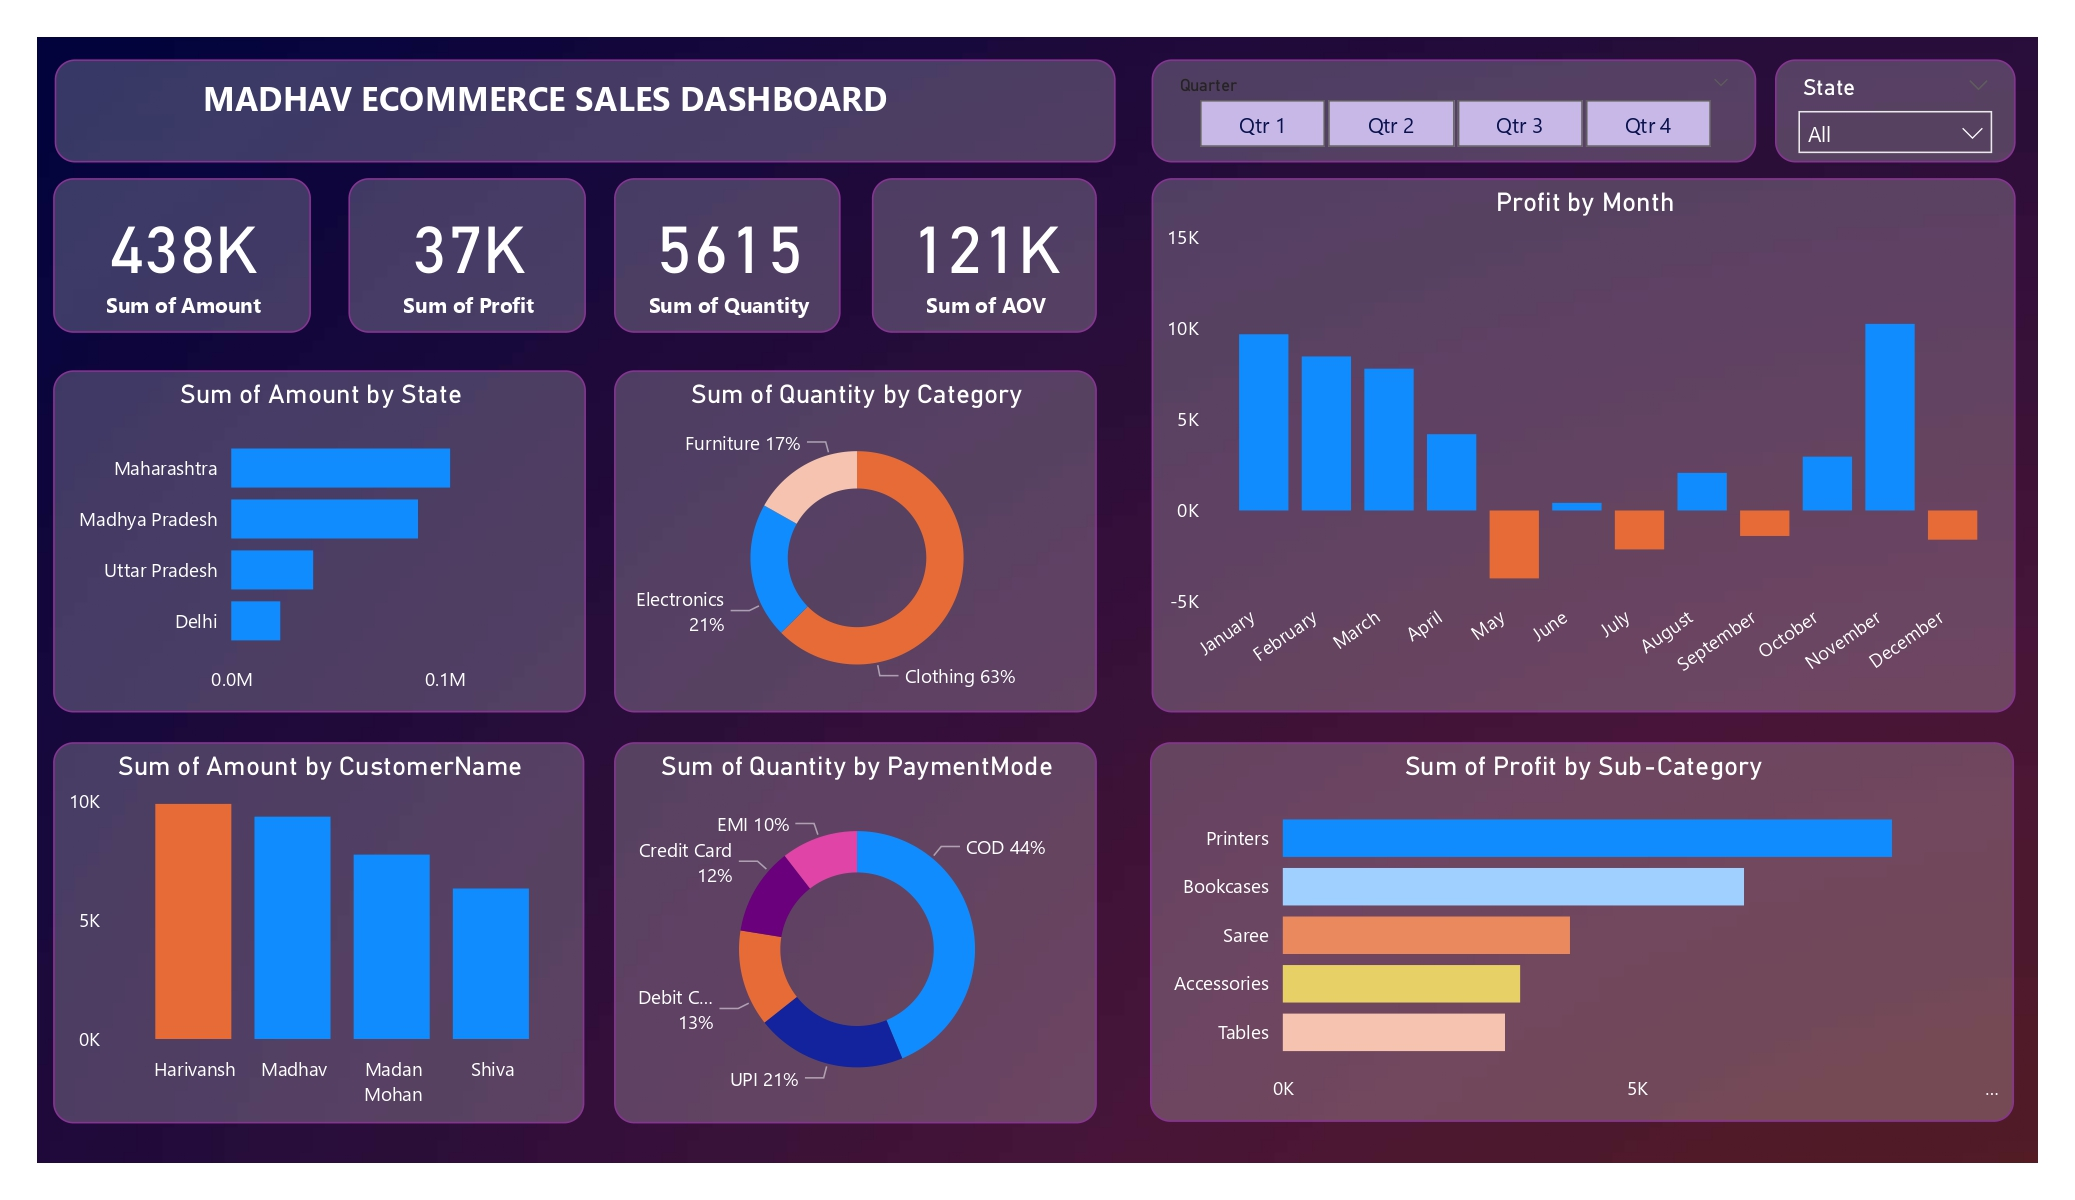

Layout of this report page (visuals, bound fields, positions):
{"tool":"powerbi","page":{"name":"Page 1","canvas":[1280,720],"ordinal":0},"visuals":[{"type":"textbox","box":[10.9,14.5,679,65.1],"z":0},{"type":"columnChart","title":" Profit by Month","fields":{"Y":["Details.Profit"],"Category":["Orders.Order Date.Variation.Date Hierarchy.Month"]},"box":[712.8,90.5,553.6,341.3],"z":1000},{"type":"clusteredBarChart","fields":{"Category":["Details.Sub-Category"],"Y":["Details.Profit"]},"box":[712.2,451.5,553,242.9],"z":2000},{"type":"donutChart","fields":{"Category":["Details.Category"],"Y":["Details.Quantity"]},"box":[369,213.5,308.7,218.3],"z":3000},{"type":"donutChart","fields":{"Y":["Details.Quantity"],"Category":["Details.PaymentMode"]},"box":[369,451.1,308.7,243.6],"z":4000},{"type":"card","fields":{"Values":["Details.Amount"]},"box":[9.6,90.5,165.2,98.9],"z":5000},{"type":"card","fields":{"Values":["Details.Profit"]},"box":[199,90.5,152,98.9],"z":6000},{"type":"card","fields":{"Values":["Details.Quantity"]},"box":[369,90.5,144.7,98.9],"z":7000},{"type":"card","fields":{"Values":["Details.AOV"]},"box":[534.3,90.5,143.5,98.9],"z":8000},{"type":"clusteredBarChart","fields":{"Category":["Orders.State"],"Y":["Details.Amount"]},"box":[9.6,213.5,341.3,218.3],"z":9000},{"type":"columnChart","fields":{"Category":["Orders.CustomerName"],"Y":["Details.Amount"]},"box":[9.6,451.1,340.1,243.6],"z":10000},{"type":"slicer","fields":{"Values":["Orders.Order Date.Variation.Date Hierarchy.Quarter"]},"box":[712.8,14.5,387.1,65.1],"z":11000},{"type":"slicer","fields":{"Values":["Orders.State"]},"box":[1112,14.5,154.4,65.1],"z":12000}]}

Visuals, with their boxes on the page's 1280x720 design canvas (x1, y1, x2, y2). These are canvas units, not pixel positions in the 2075x1200 screenshot, which may show the page scaled, cropped or inside an application window:
textbox: (left=11, top=14, right=690, bottom=80)
" Profit by Month" columnChart: (left=713, top=90, right=1266, bottom=432)
clusteredBarChart - Details.Sub-Category x Details.Profit: (left=712, top=452, right=1265, bottom=694)
donutChart - Details.Category x Details.Quantity: (left=369, top=214, right=678, bottom=432)
donutChart - Details.Quantity x Details.PaymentMode: (left=369, top=451, right=678, bottom=695)
card - Details.Amount: (left=10, top=90, right=175, bottom=189)
card - Details.Profit: (left=199, top=90, right=351, bottom=189)
card - Details.Quantity: (left=369, top=90, right=514, bottom=189)
card - Details.AOV: (left=534, top=90, right=678, bottom=189)
clusteredBarChart - Orders.State x Details.Amount: (left=10, top=214, right=351, bottom=432)
columnChart - Orders.CustomerName x Details.Amount: (left=10, top=451, right=350, bottom=695)
slicer - Orders.Order Date.Variation.Date Hierarchy.Quarter: (left=713, top=14, right=1100, bottom=80)
slicer - Orders.State: (left=1112, top=14, right=1266, bottom=80)
